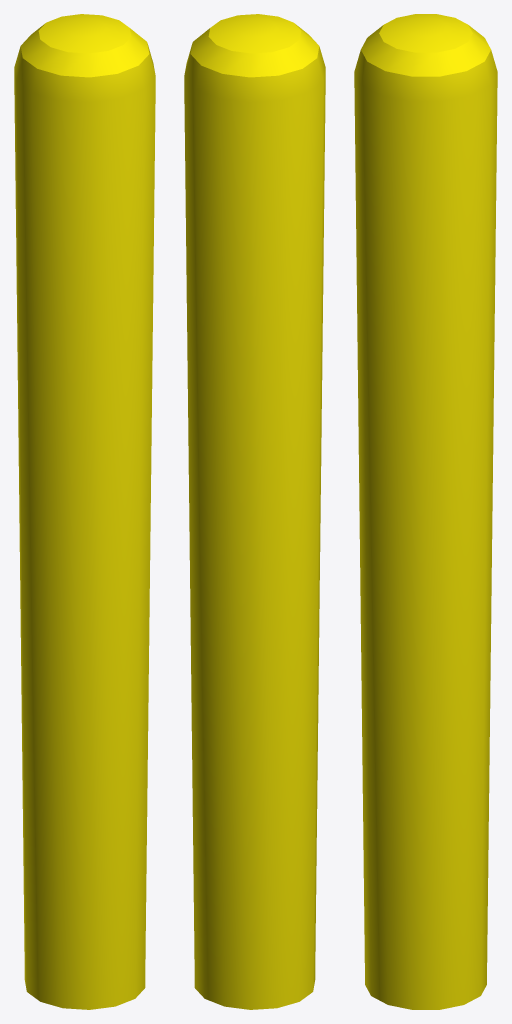
The model's file is Pillar.fbx.
The picture shows the model from 3 angles, left to right: view 1: azimuth 30°, elevation 25°; view 2: azimuth 150°, elevation 25°; view 3: azimuth 270°, elevation 25°; orthographic projection.
Parts seen in each view (by area): view 1: pillar; view 2: pillar; view 3: pillar.
Boxes of the visible parts, box(x1,y1,x2,y2) form: pillar: box(14, 14, 155, 1009); pillar: box(184, 14, 325, 1009); pillar: box(354, 14, 497, 1009).
Size of the model in its own units: 44.4 by 336 by 45.54.
